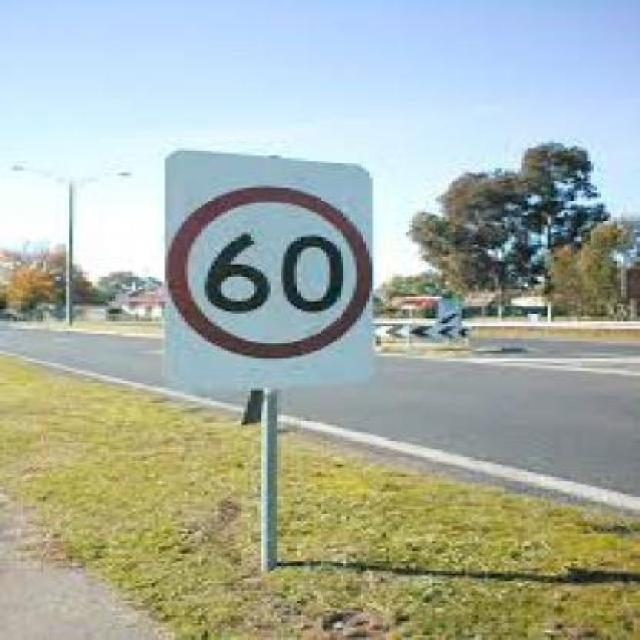forb_speed_over_60: (163, 180, 383, 366)
